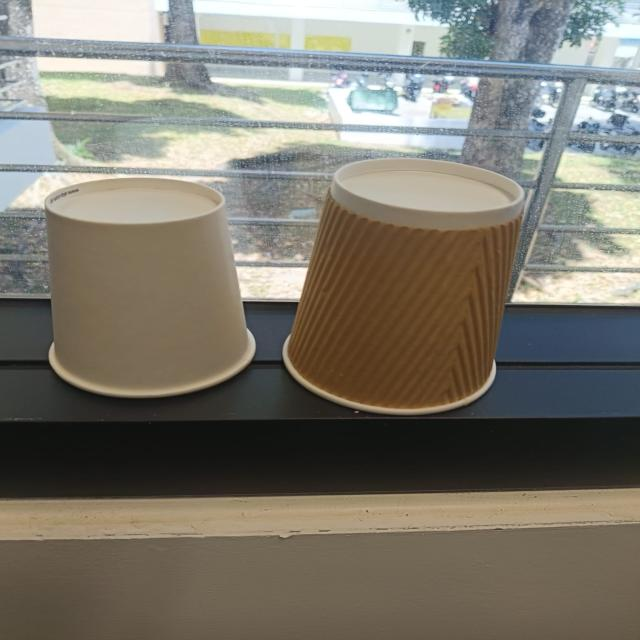Browncup: (283, 158, 524, 414)
Whitecup: (45, 178, 255, 398)
